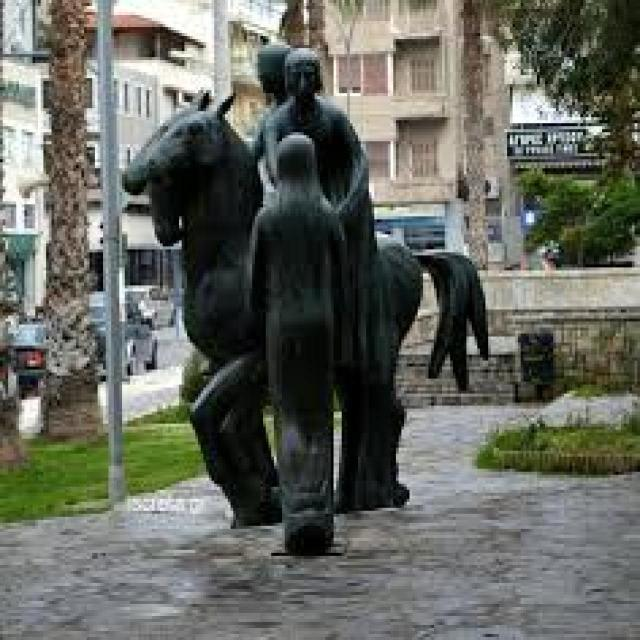Aretousa: (122, 42, 492, 558)
